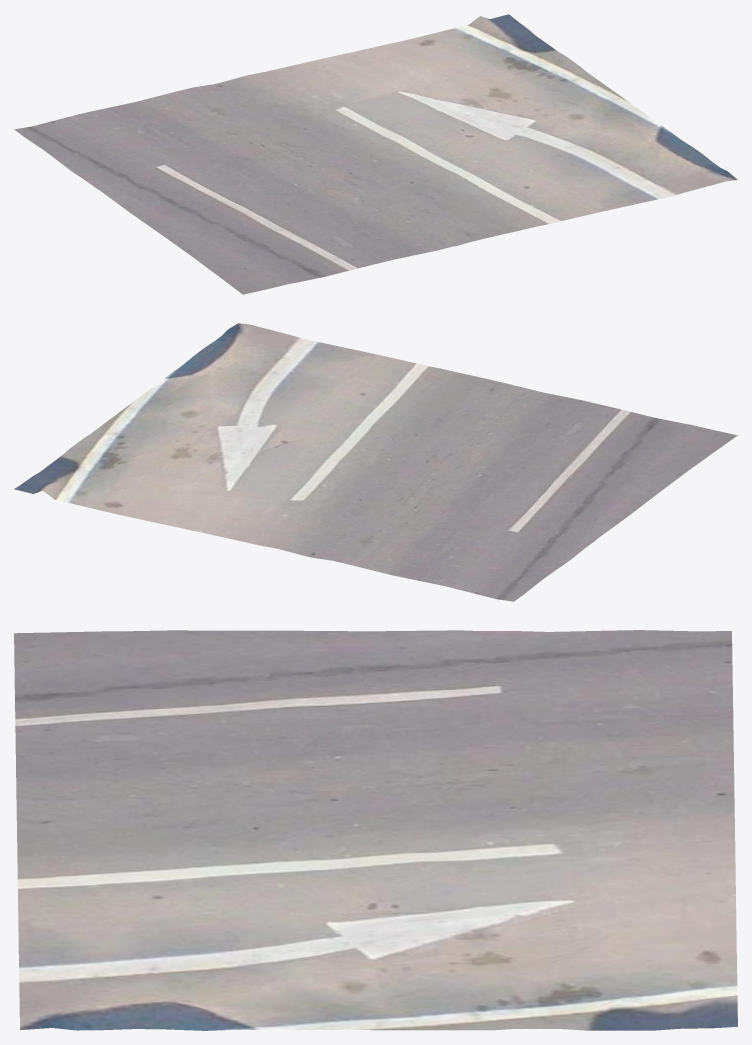
Rendered from Tile_+006_+007_L22_0001120.glb.
The picture shows the model from 3 angles, top to bottom: view 1: azimuth 30°, elevation 25°; view 2: azimuth 150°, elevation 25°; view 3: azimuth 270°, elevation 25°; orthographic projection. The views are drawn at different scales.
Visible parts, largest first — view 1: rtc; view 2: rtc; view 3: rtc.
Part boxes in pixels (<box>): rtc: <box>14,14,737,294</box>; rtc: <box>14,323,737,601</box>; rtc: <box>14,630,737,1030</box>.
Bounding box in the file's own units: 8.86 × 0.1825 × 7.02.
Materials: 1 (1 with a texture image).
